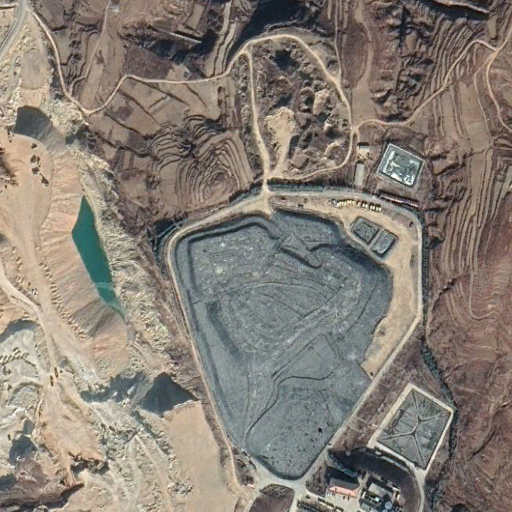lf: (165, 183, 421, 479)
